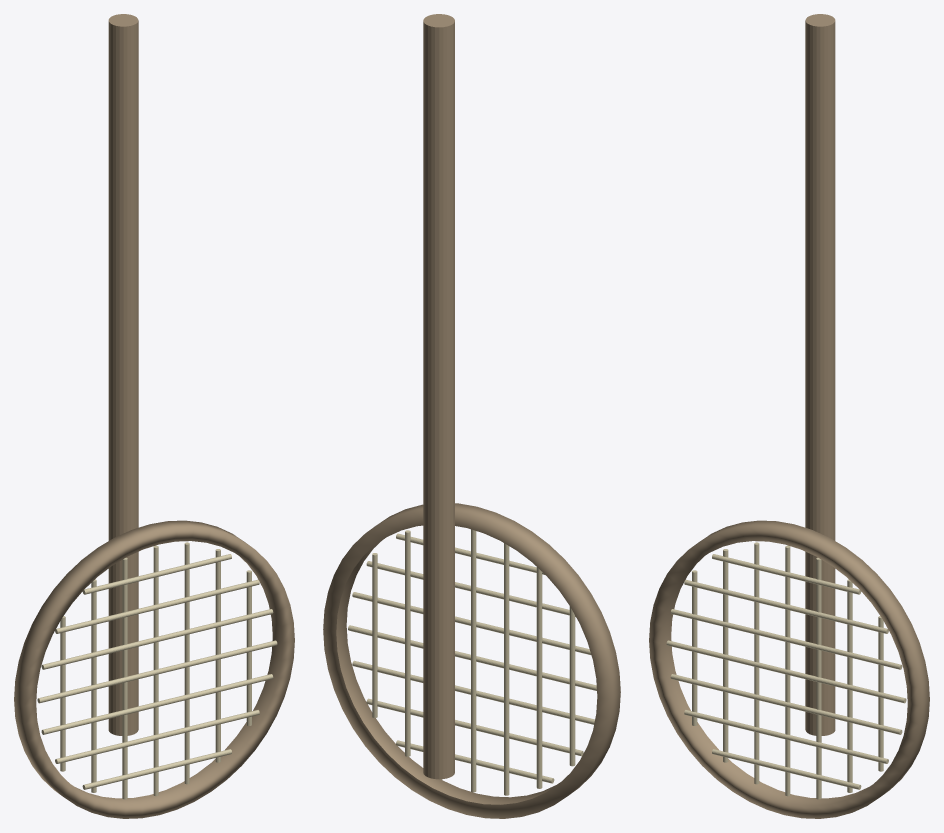
The model's file is coastal-saltworks-and-trade-port-coastal-saltworks-and-227c3d73__31382.glb.
3 views of the same model, side by side, from view 1: azimuth 30°, elevation 25°; view 2: azimuth 150°, elevation 25°; view 3: azimuth 330°, elevation 25° (orthographic). The views are drawn at different scales.
Visible parts, largest first — view 1: coastal-saltworks-and-trade-port-surface-skimming-net; view 2: coastal-saltworks-and-trade-port-surface-skimming-net; view 3: coastal-saltworks-and-trade-port-surface-skimming-net.
Boxes of the visible parts, <box> form: coastal-saltworks-and-trade-port-surface-skimming-net: <box>14,14,294,818</box>; coastal-saltworks-and-trade-port-surface-skimming-net: <box>323,14,620,818</box>; coastal-saltworks-and-trade-port-surface-skimming-net: <box>649,14,929,818</box>.
Bounding box in the file's own units: 0.4799 × 1.3 × 0.133.
